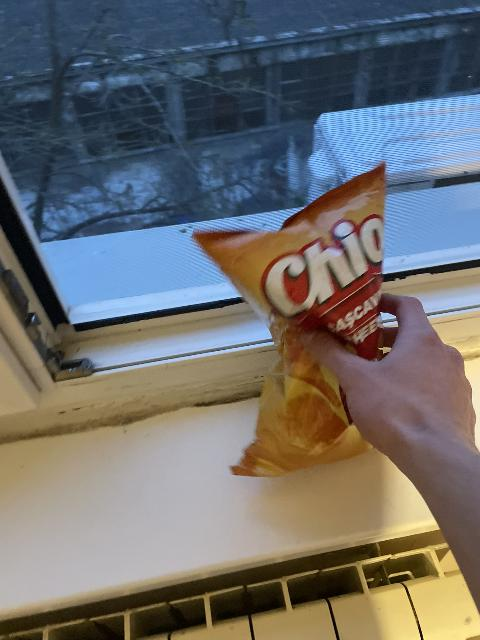Chio Cascaval 125g: (185, 160, 385, 469)
